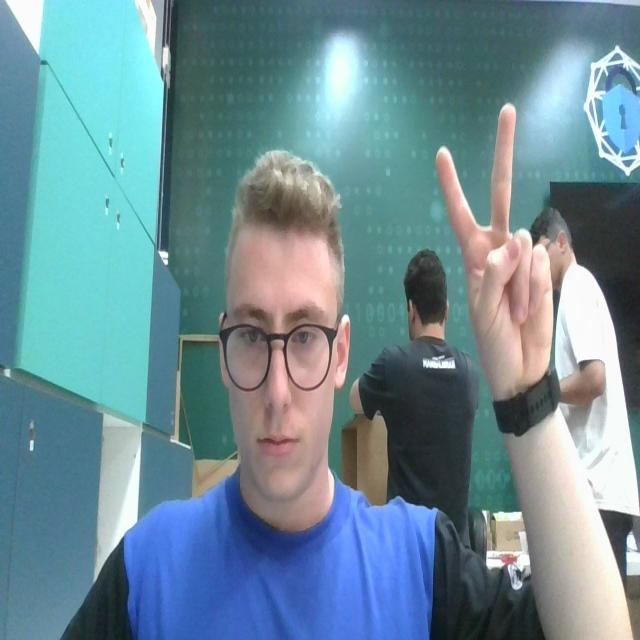V: (436, 105, 557, 386)
